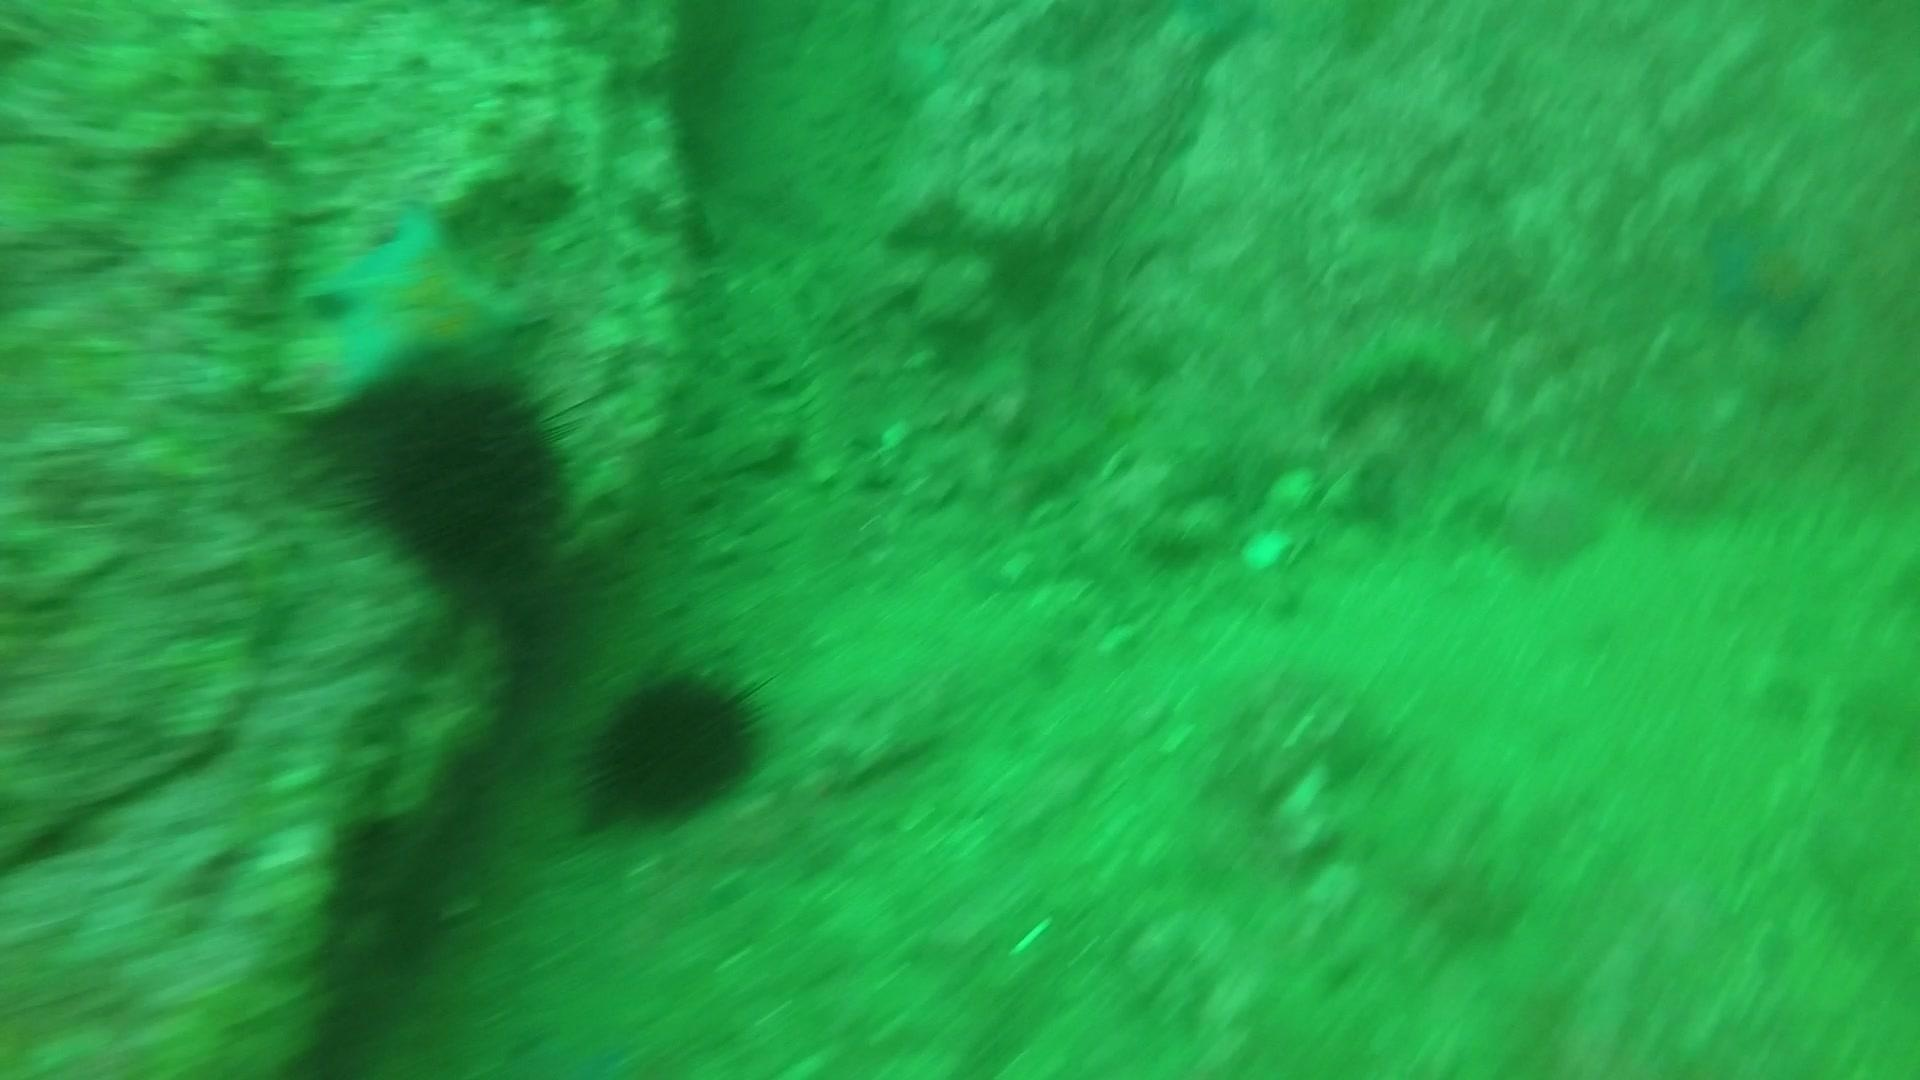echinus: (328, 363, 584, 595), (574, 658, 775, 831)
starfish: (285, 193, 549, 425), (1695, 202, 1838, 344)
